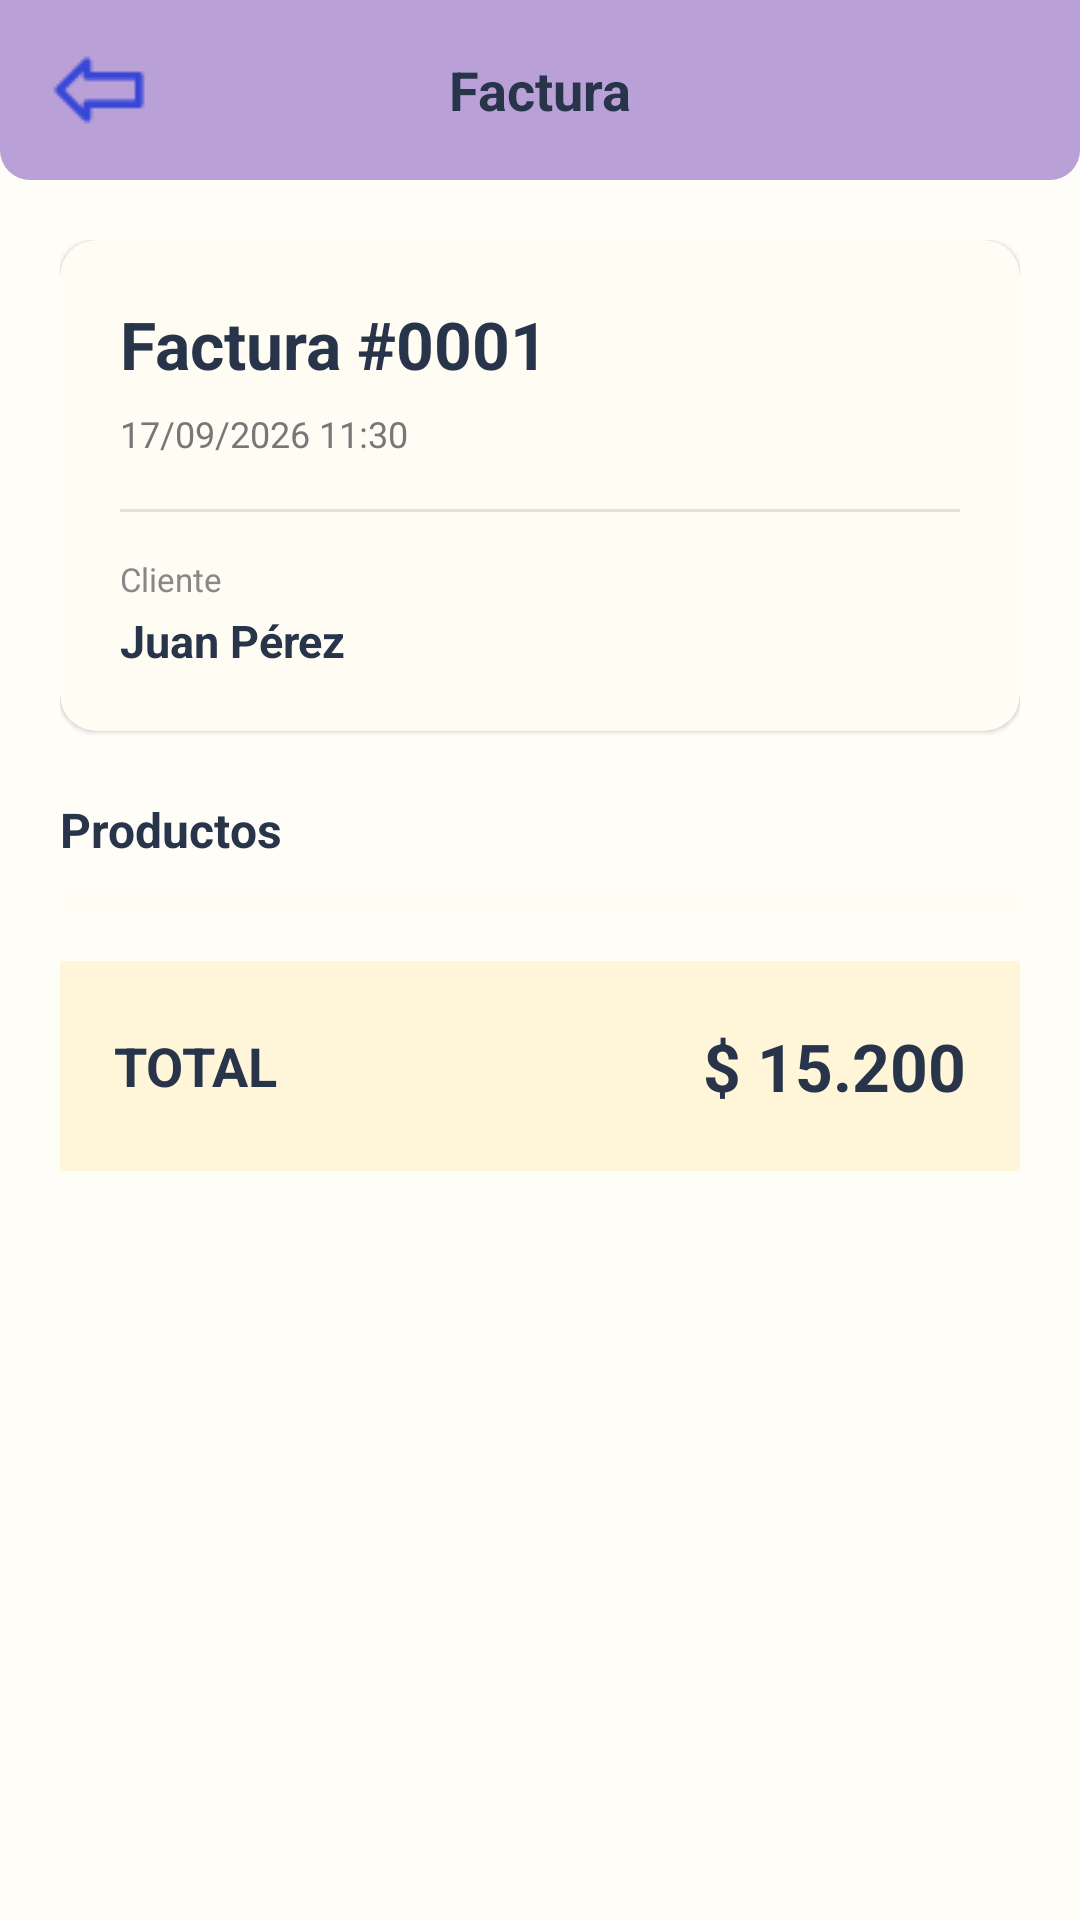

Named icons in this screenshot (1080px x 1920px) and their centers, (x,y):
Volver: (99,90)
